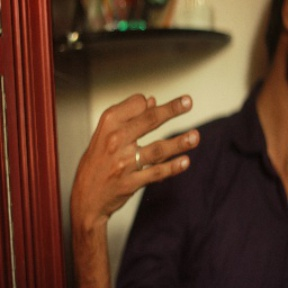K: (69, 92, 201, 208)
